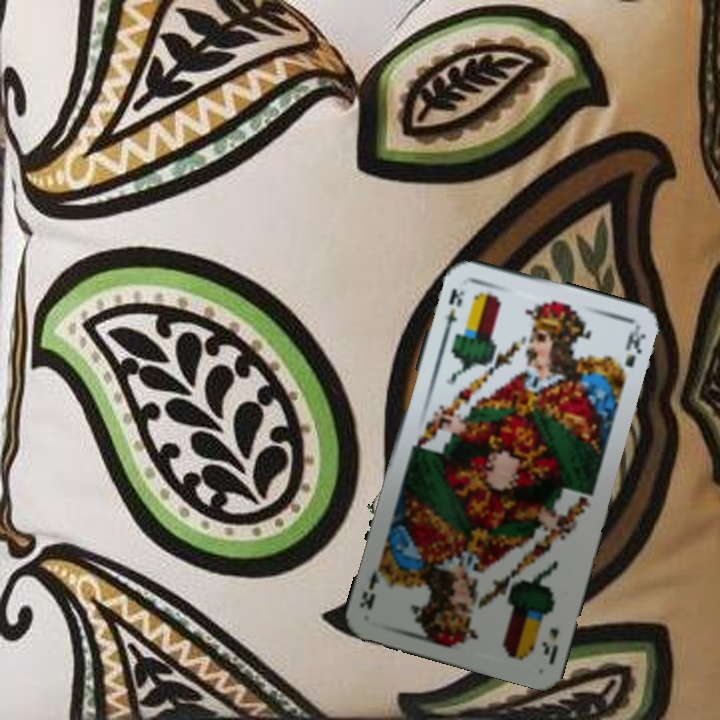EK: (439, 284, 467, 336), (537, 623, 561, 667)
